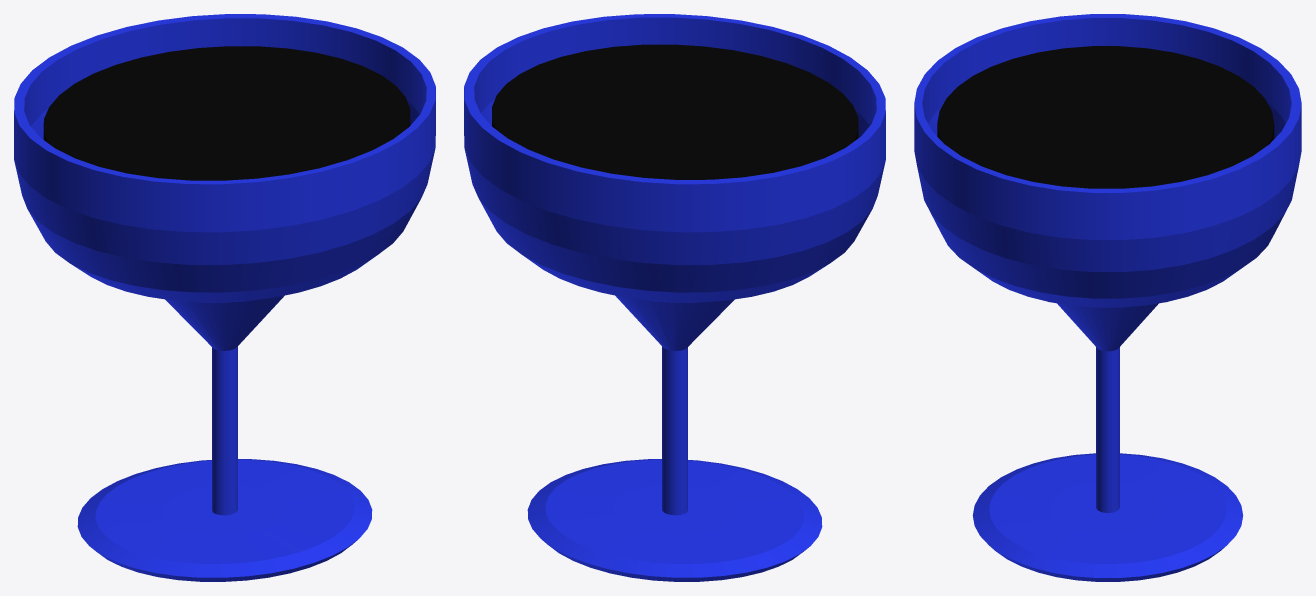
File: Glass4.FBX
The picture shows the model from 3 angles, left to right: view 1: azimuth 30°, elevation 25°; view 2: azimuth 150°, elevation 25°; view 3: azimuth 270°, elevation 25°; orthographic projection.
Visible parts, largest first — view 1: Object014, Object016, Line006; view 2: Object014, Object016, Line006; view 3: Object014, Object016, Line006.
Part boxes in pixels (left/top/right/bottom): Object014: left=14, top=14, right=435, bottom=350; Object016: left=43, top=46, right=410, bottom=180; Line006: left=77, top=346, right=372, bottom=581; Object014: left=464, top=14, right=885, bottom=350; Object016: left=492, top=44, right=858, bottom=179; Line006: left=527, top=346, right=822, bottom=581; Object014: left=914, top=14, right=1301, bottom=351; Object016: left=937, top=46, right=1274, bottom=188; Line006: left=972, top=347, right=1243, bottom=581.
Size of the model in its own units: 63.73 by 69.68 by 58.34.
